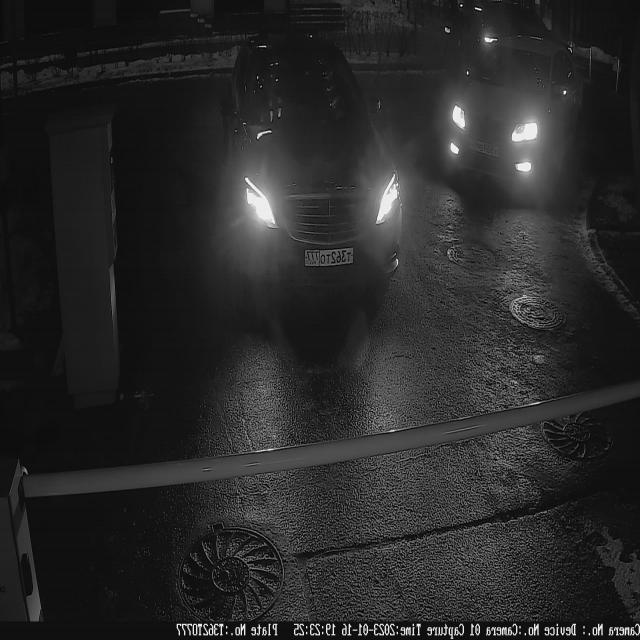car-plate-numbers: (302, 239, 357, 276)
